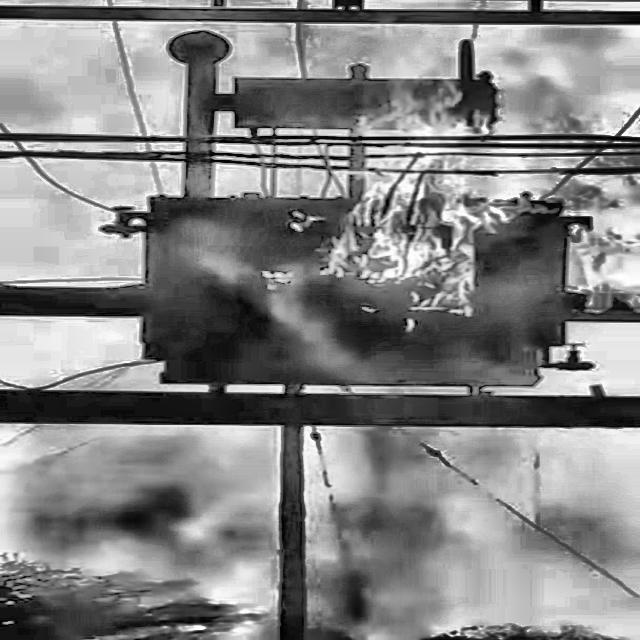Fire: (263, 18, 640, 349)
